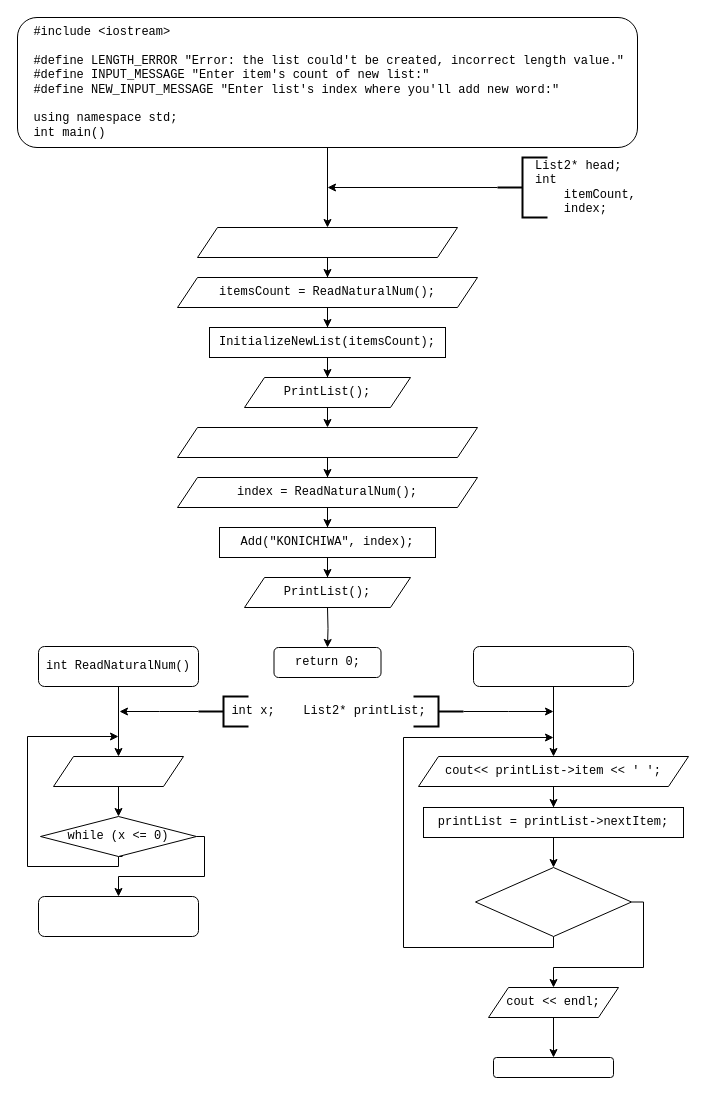
Some shapes in this 706 by 1095 pixel diagram are drawn without their labels. The shapes that lost their labels are listed below. From the top down, each one's box as (x1, y1, x2, y2) in pixels, then its label:
(196, 226, 458, 258): cout << INPUT_MESSAGE << endl;
(176, 426, 478, 458): cout << NEW_INPUT_MESSAGE << endl;
(472, 646, 634, 686): void PrintList()
(52, 756, 184, 786): cin >> x;
(38, 896, 198, 936): return x;
(474, 866, 632, 936): while (printList != head)
